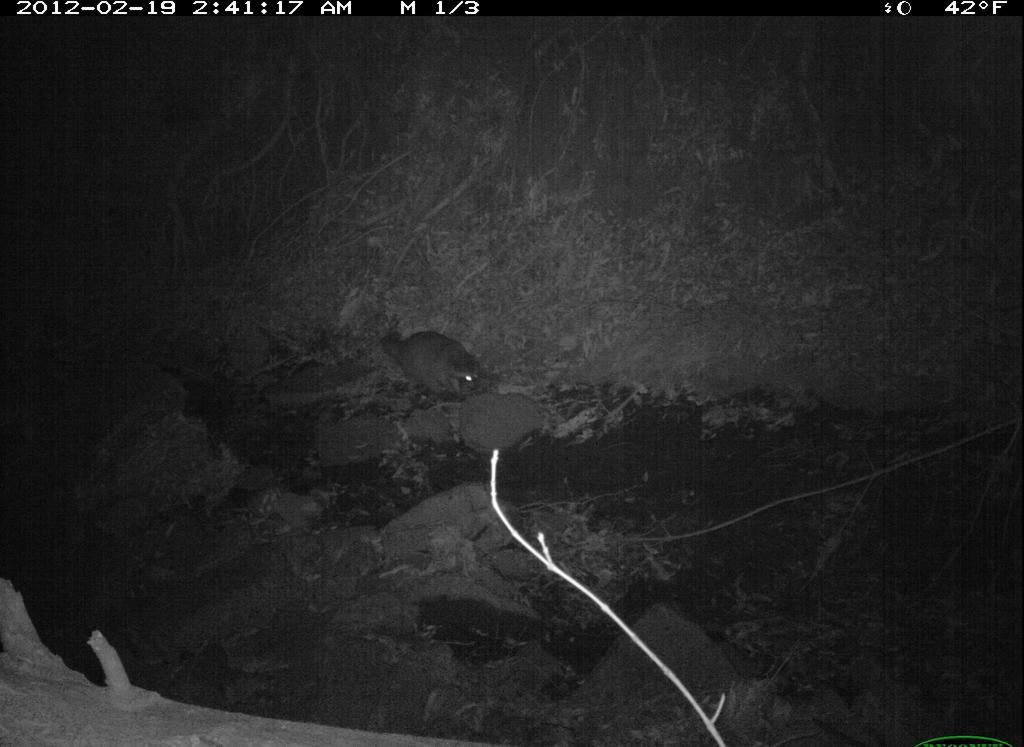raccoon: (365, 312, 498, 417)
